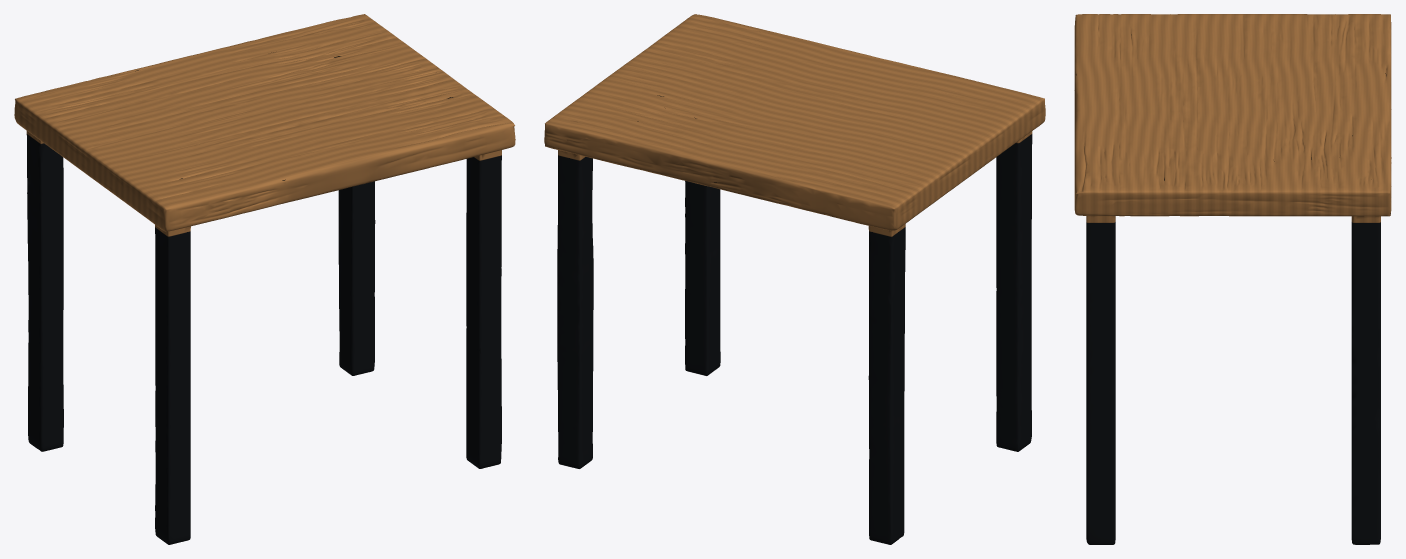
The model's file is approved.glb.
3 renders of one model, left to right at view 1: azimuth 30°, elevation 25°; view 2: azimuth 150°, elevation 25°; view 3: azimuth 270°, elevation 25°, orthographic. The views are drawn at different scales.
Parts seen in each view (by area): view 1: source; view 2: source; view 3: source.
Part boxes in pixels (x1,y1,x2,y2): source: [14, 14, 515, 544]; source: [544, 14, 1045, 544]; source: [1074, 14, 1391, 544].
Bounding box in the file's own units: 0.8 × 0.75 × 0.6.
Materials: 2 (2 with a texture image).
